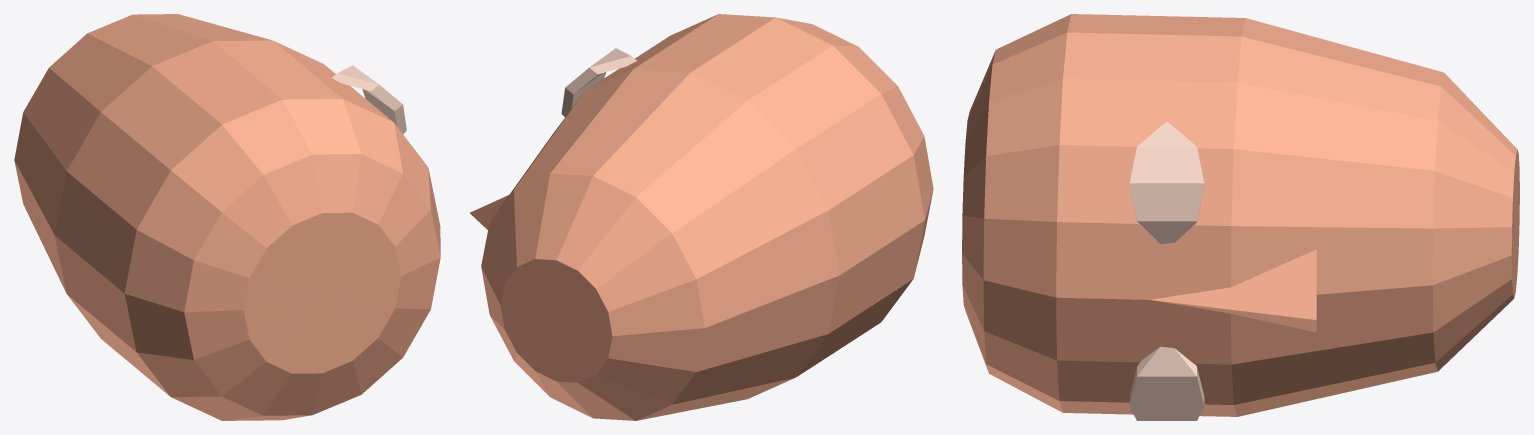
The model's file is _head-human-head-pitch.glb.
3 views of the same model, side by side, from view 1: azimuth 30°, elevation 25°; view 2: azimuth 150°, elevation 25°; view 3: azimuth 270°, elevation 25° (orthographic). The views are drawn at different scales.
Size of the model in its own units: 0.181 by 0.16 by 0.2235.
